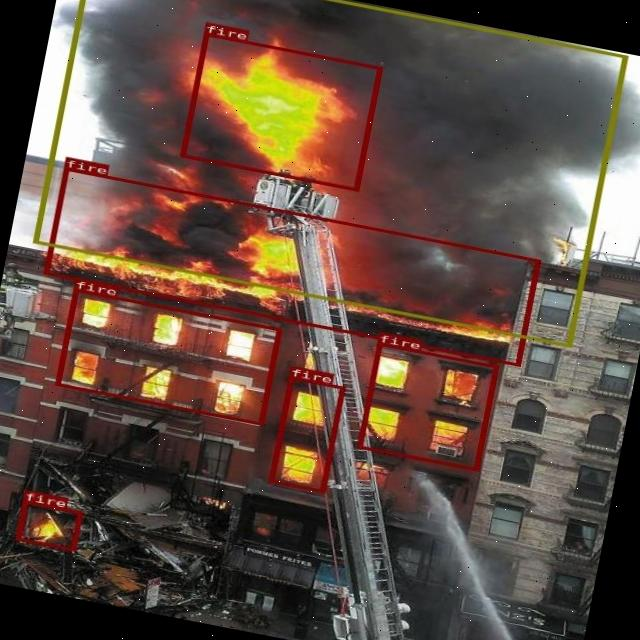fire: (42, 167, 540, 366), (178, 32, 382, 190), (55, 288, 281, 424), (357, 342, 498, 471), (268, 376, 344, 492), (16, 500, 82, 550)
smoke: (31, 0, 627, 347)
